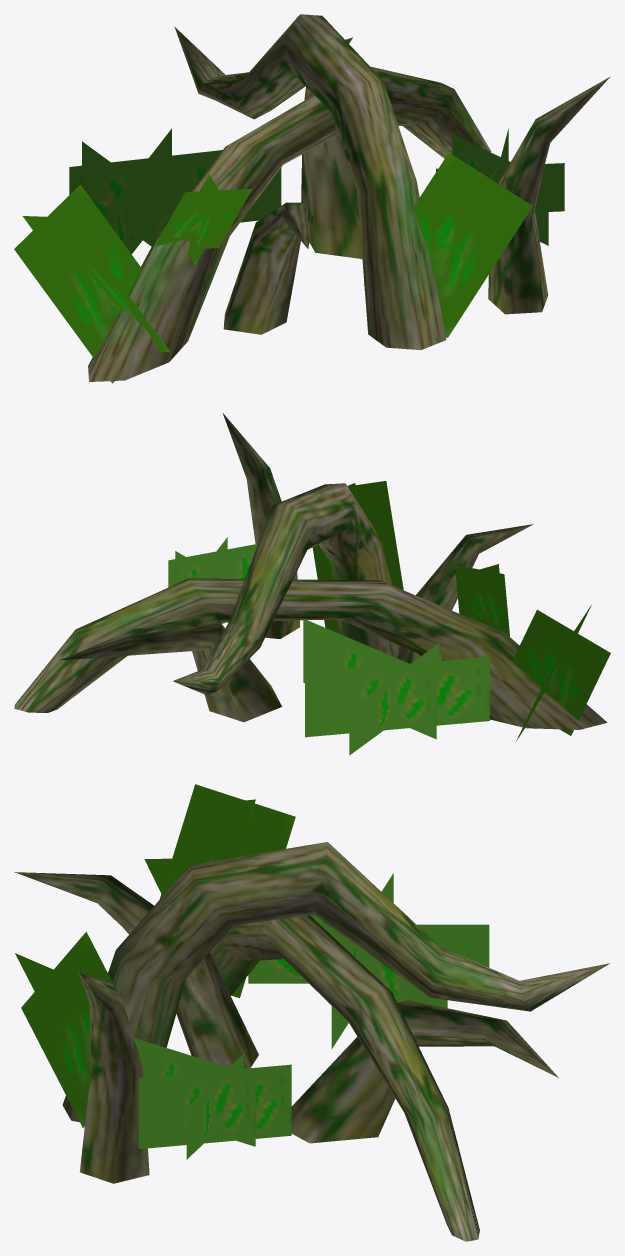
The model's file is roots01.obj.
The picture shows the model from 3 angles, top to bottom: view 1: azimuth 30°, elevation 25°; view 2: azimuth 150°, elevation 25°; view 3: azimuth 270°, elevation 25°; orthographic projection. The views are drawn at different scales.
Visible parts, largest first — view 1: Cylinder01, Duplicate01, Duplicate05, Box01, Cylinder02, Duplicate02, Duplicate08, Duplicate03, Duplicate06, Duplicate09, Duplicate07, Box02; view 2: Duplicate01, Cylinder01, Duplicate07, Duplicate03, Duplicate05, Duplicate08, Cylinder02, Duplicate02, Duplicate06, Duplicate04, Box02, Duplicate09; view 3: Cylinder01, Duplicate01, Duplicate09, Duplicate03, Cylinder02, Duplicate02, Box01, Duplicate05, Box02, Duplicate04, Duplicate07, Duplicate06 (+1 smaller).
Part boxes in pixels (x1,y1,x2,y2): Cylinder01: (174, 14, 446, 349); Duplicate01: (88, 66, 491, 381); Duplicate05: (14, 184, 169, 383); Box01: (363, 153, 532, 337); Cylinder02: (488, 77, 609, 314); Duplicate02: (223, 202, 313, 334); Duplicate08: (69, 150, 281, 222); Duplicate03: (301, 37, 362, 258); Duplicate06: (152, 174, 252, 265); Duplicate09: (436, 128, 564, 245); Duplicate07: (104, 128, 171, 254); Box02: (82, 141, 174, 246); Duplicate01: (14, 578, 607, 729); Cylinder01: (173, 483, 399, 695); Duplicate07: (305, 656, 489, 737); Duplicate03: (60, 614, 281, 722); Duplicate05: (512, 604, 610, 741); Duplicate08: (303, 618, 436, 739); Cylinder02: (223, 413, 299, 638); Duplicate02: (397, 524, 533, 663); Duplicate06: (455, 564, 510, 641); Duplicate04: (312, 481, 403, 633); Box02: (349, 643, 442, 755); Duplicate09: (168, 537, 257, 622); Cylinder01: (62, 842, 610, 1122); Duplicate01: (209, 915, 479, 1241); Duplicate09: (134, 1038, 291, 1159); Duplicate03: (291, 1000, 558, 1143); Cylinder02: (78, 971, 149, 1183); Duplicate02: (14, 872, 258, 1068); Box01: (21, 931, 112, 1127); Duplicate05: (159, 784, 295, 998); Box02: (248, 924, 489, 983); Duplicate04: (15, 953, 90, 1039); Duplicate07: (310, 915, 447, 1008); Duplicate06: (144, 838, 213, 895).
Bounding box in the file's own units: 47.11 × 19.74 × 38.67.
